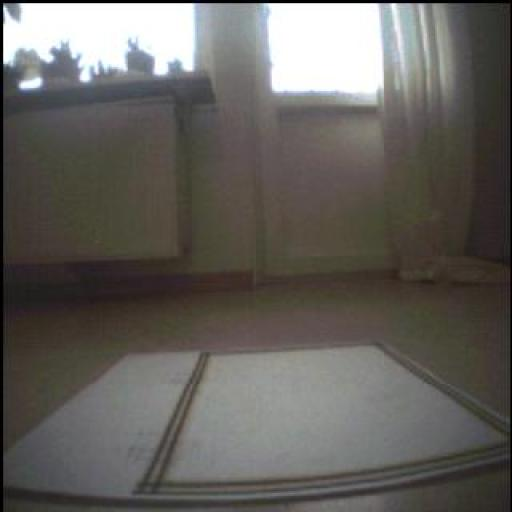Pad: (1, 335, 511, 512)
